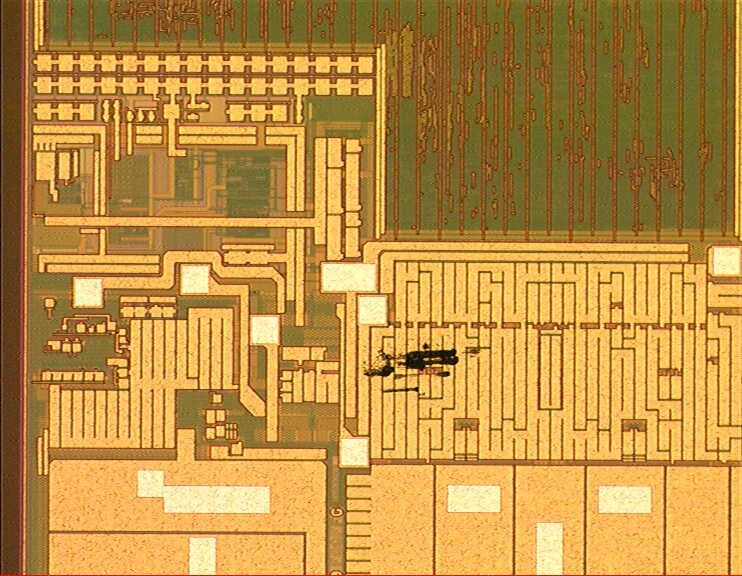SCRATCH: (358, 338, 493, 401)
